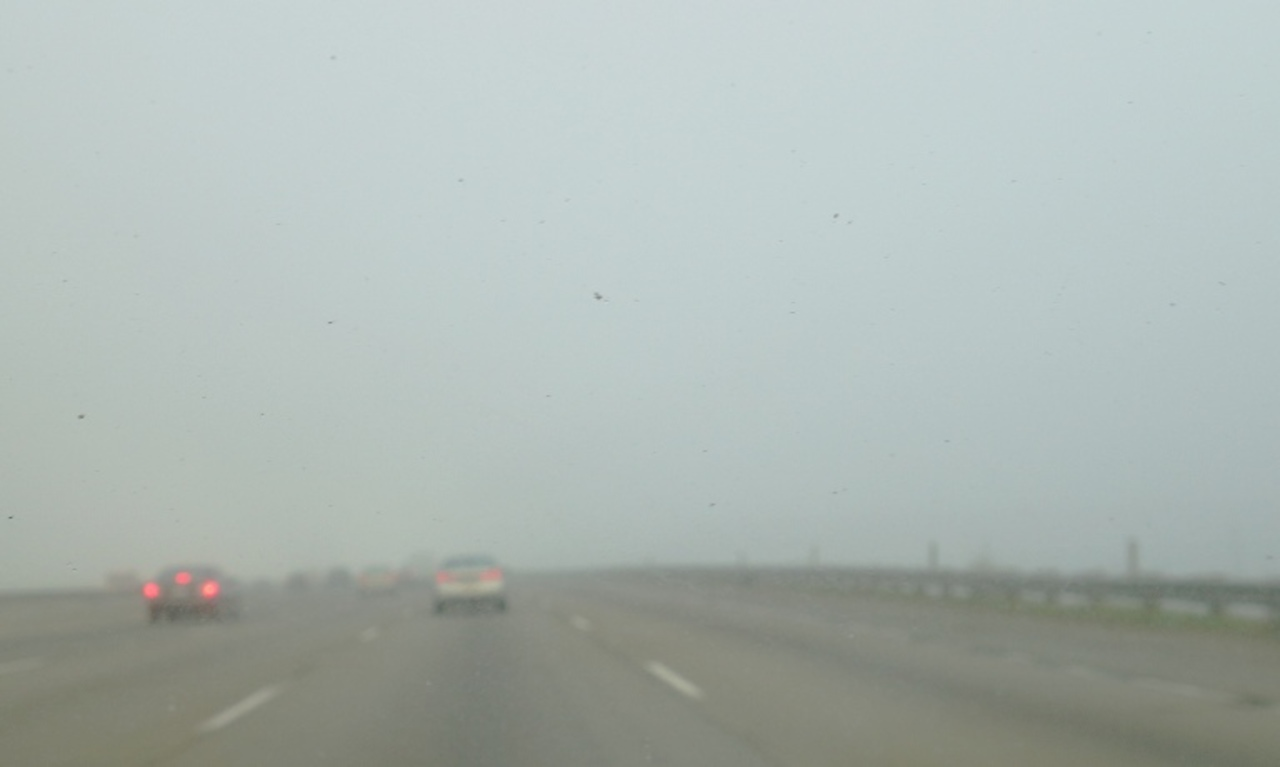car: (140, 563, 226, 625), (431, 553, 508, 616), (355, 564, 397, 595)
